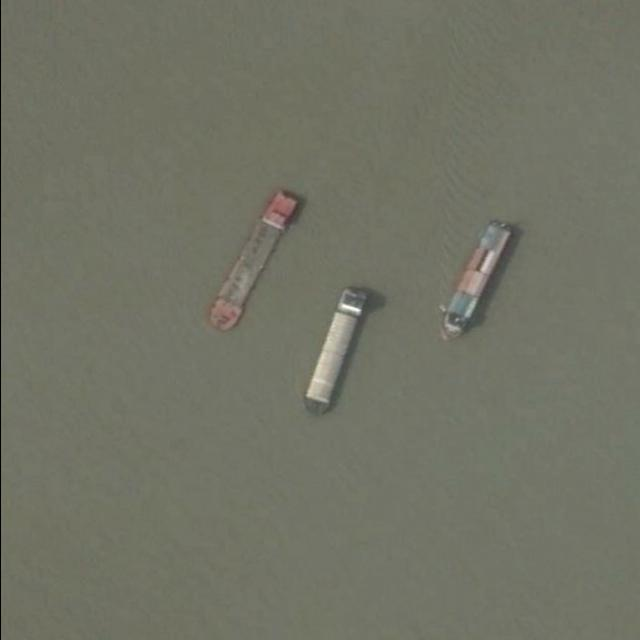ship: (207, 187, 300, 333), (436, 216, 516, 340), (301, 284, 374, 418)
